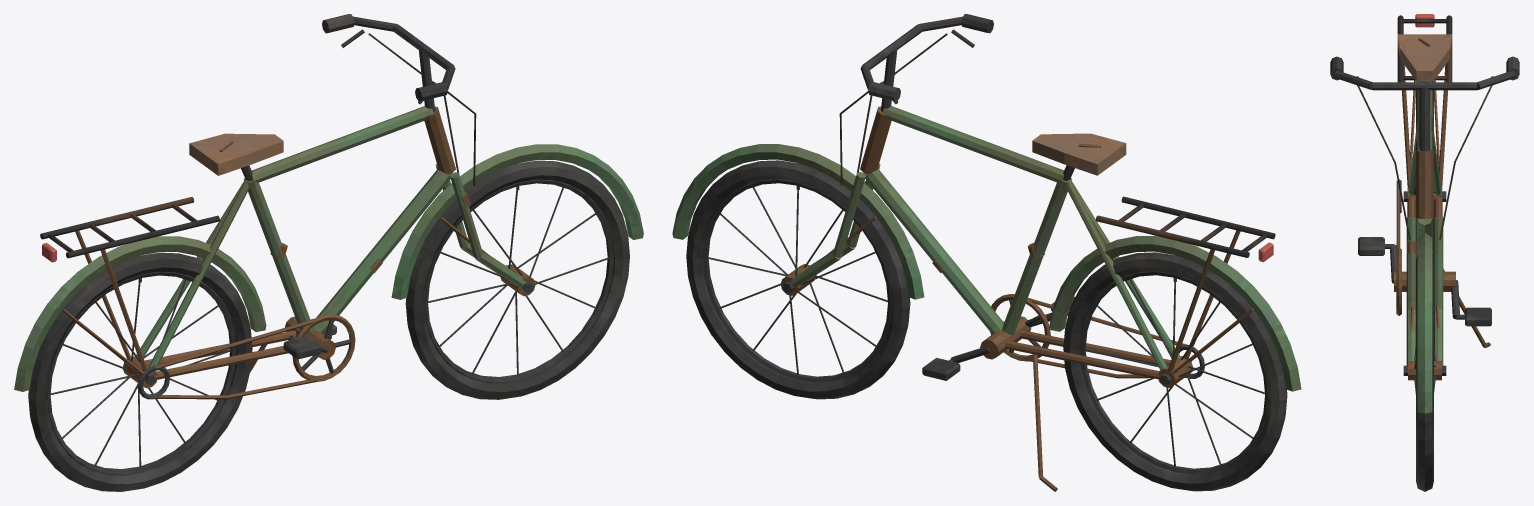
File: W20_old_bicycle_v1.glb
3 views of the same model, side by side, from view 1: azimuth 30°, elevation 25°; view 2: azimuth 150°, elevation 25°; view 3: azimuth 270°, elevation 25° (orthographic). The views are drawn at different scales.
Parts seen in each view (by area): view 1: Cracked narrow tyre; view 2: Cracked narrow tyre; view 3: Cracked narrow tyre.
Part boxes in pixels (box(x1,y1,x2,y2)): Cracked narrow tyre: box(14, 14, 643, 491); Cracked narrow tyre: box(672, 14, 1301, 491); Cracked narrow tyre: box(1330, 14, 1519, 491).
Bounding box in the file's own units: 1.8 × 1.03 × 0.4962.
Materials: 8 (8 with a texture image).
